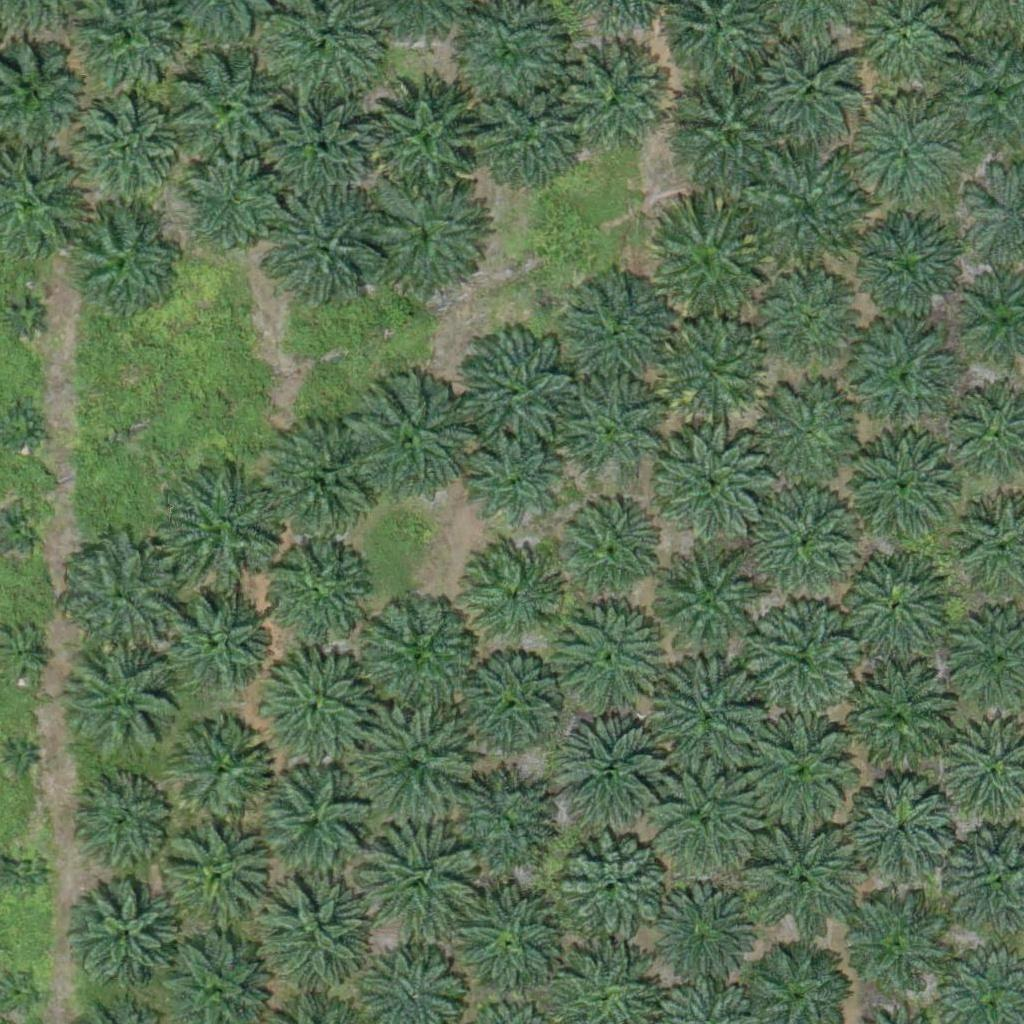Kelapa_Sawit: (162, 50, 287, 176), (262, 186, 387, 312), (361, 71, 486, 197), (365, 175, 490, 301), (452, 329, 577, 455), (346, 382, 471, 508), (163, 467, 288, 593), (353, 700, 478, 826), (355, 590, 480, 716), (250, 868, 375, 994), (357, 816, 482, 942), (645, 204, 770, 329), (63, 87, 176, 201), (176, 149, 289, 263), (265, 421, 378, 535), (67, 206, 180, 319), (468, 79, 581, 192), (755, 36, 868, 149), (851, 216, 964, 329), (841, 427, 954, 540), (659, 423, 772, 536), (656, 550, 769, 663), (650, 663, 763, 776), (549, 597, 662, 710), (649, 771, 762, 884), (743, 714, 856, 827), (255, 648, 368, 761), (254, 765, 367, 878), (747, 829, 860, 942), (643, 874, 756, 987), (550, 719, 662, 833), (164, 820, 276, 934), (260, 94, 372, 207), (559, 42, 671, 155), (670, 72, 782, 185), (752, 159, 864, 272), (837, 548, 949, 661), (844, 666, 956, 779), (750, 375, 862, 488), (751, 485, 863, 598), (749, 601, 861, 714), (847, 779, 959, 892), (64, 540, 176, 653), (73, 646, 185, 759), (839, 896, 951, 1009), (558, 832, 670, 945), (453, 886, 565, 999), (859, 101, 959, 202), (854, 325, 954, 426), (757, 268, 857, 369), (663, 318, 763, 419), (573, 280, 673, 381), (561, 378, 661, 479), (557, 499, 657, 600), (463, 431, 563, 532), (166, 590, 266, 691), (172, 718, 272, 819), (461, 546, 561, 646), (459, 655, 559, 755), (444, 778, 544, 878), (265, 539, 365, 639), (77, 884, 177, 984), (82, 780, 169, 868), (1, 847, 51, 897), (8, 747, 33, 772)
